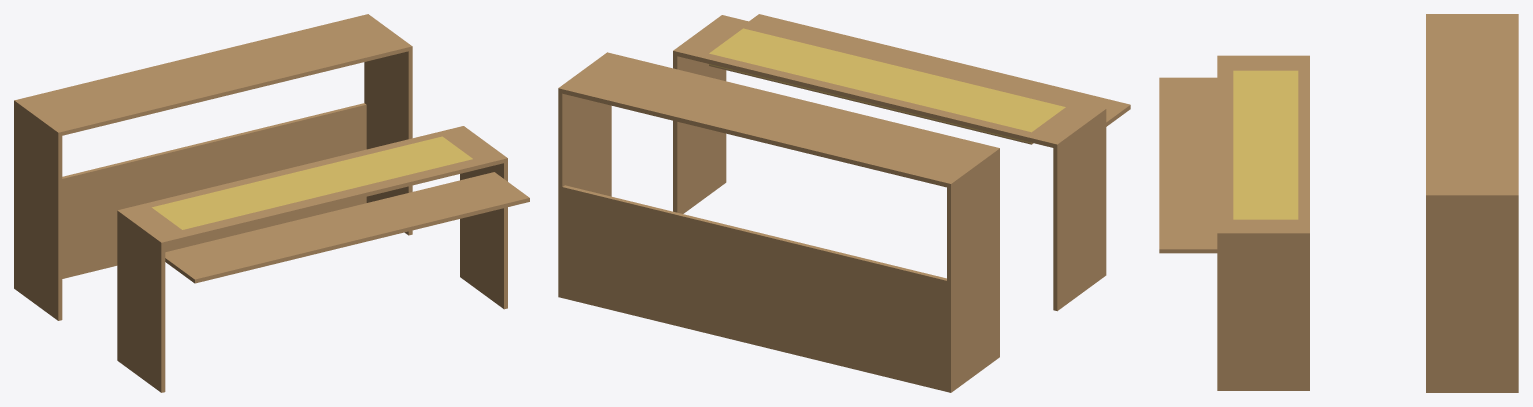
File: Mesa_util.dae
The picture shows the model from 3 angles, left to right: view 1: azimuth 30°, elevation 25°; view 2: azimuth 150°, elevation 25°; view 3: azimuth 270°, elevation 25°; orthographic projection. The views are drawn at different scales.
Parts seen in each view (by area): view 1: KH - trasera baja, KH - tablero, Bandeja teclado, KH - lateral izquierdo, Balda - ventana de lana, Balda - lateral izquierdo, KH - lateral derecho, Balda - lateral derecho, Balda - marco delantero, Balda - marco trasero, Balda - lado izquierdo, Balda - lado derecho; view 2: KH - trasera baja, KH - tablero, Balda - ventana de lana, KH - lateral izquierdo, Balda - lateral izquierdo, KH - lateral derecho, Balda - lateral derecho, Balda - marco trasero, Bandeja teclado, Balda - marco delantero, Balda - lado izquierdo, Balda - lado derecho (+1 smaller); view 3: KH - lateral derecho, KH - tablero, Balda - lateral derecho, Bandeja teclado, Balda - ventana de lana, Balda - marco delantero, Balda - marco trasero, Balda - lado derecho, Balda - lado izquierdo.
Part boxes in pixels (x1,y1,x2,y2): KH - trasera baja: [62, 103, 366, 278]; KH - tablero: [14, 14, 412, 136]; Bandeja teclado: [165, 172, 529, 283]; KH - lateral izquierdo: [14, 104, 62, 320]; Balda - ventana de lana: [152, 136, 472, 229]; Balda - lateral izquierdo: [117, 214, 165, 392]; KH - lateral derecho: [364, 50, 412, 235]; Balda - lateral derecho: [460, 162, 507, 309]; Balda - marco delantero: [153, 152, 507, 246]; Balda - marco trasero: [117, 126, 468, 217]; Balda - lado izquierdo: [122, 207, 181, 240]; Balda - lado derecho: [443, 130, 499, 158]; KH - trasera baja: [562, 185, 946, 391]; KH - tablero: [558, 52, 999, 188]; Balda - ventana de lana: [709, 28, 1065, 143]; KH - lateral izquierdo: [947, 153, 999, 392]; Balda - lateral izquierdo: [1053, 113, 1106, 311]; KH - lateral derecho: [558, 92, 611, 297]; Balda - lateral derecho: [673, 55, 726, 213]; Balda - marco trasero: [673, 46, 1063, 148]; Bandeja teclado: [749, 14, 1130, 126]; Balda - marco delantero: [714, 15, 1106, 118]; Balda - lado izquierdo: [1032, 107, 1097, 143]; Balda - lado derecho: [679, 21, 742, 53]; KH - lateral derecho: [1426, 199, 1518, 392]; KH - tablero: [1426, 14, 1518, 199]; Balda - lateral derecho: [1217, 237, 1309, 390]; Bandeja teclado: [1159, 77, 1217, 253]; Balda - ventana de lana: [1233, 70, 1298, 219]; Balda - marco delantero: [1217, 55, 1233, 237]; Balda - marco trasero: [1298, 55, 1309, 237]; Balda - lado derecho: [1233, 219, 1298, 237]; Balda - lado izquierdo: [1233, 55, 1298, 70].
Size of the model in its own units: 72.83 by 61.02 by 37.01.
